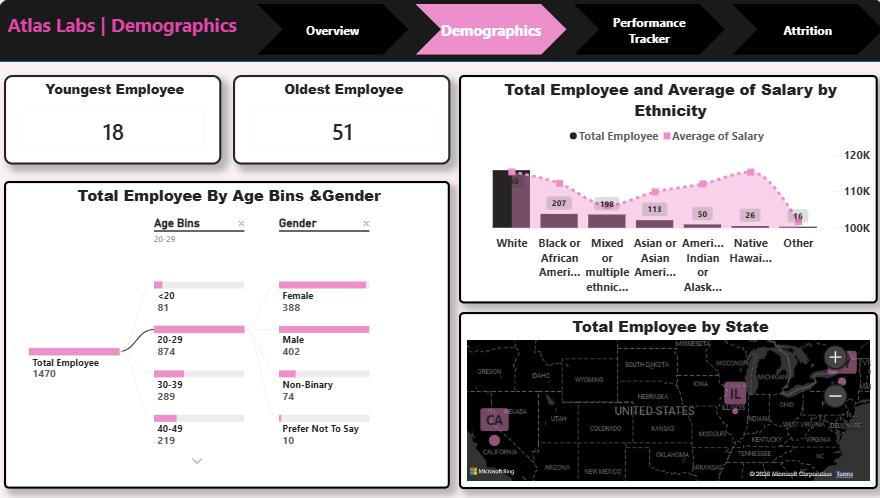

Layout of this report page (visuals, bound fields, positions):
{"tool":"powerbi","page":{"name":"Demographics","canvas":[1280,720],"ordinal":1},"visuals":[{"type":"shape","box":[0,0,1279.8,92.1],"z":0},{"type":"textbox","box":[10.1,8.7,368.1,73.9],"z":1000},{"type":"pageNavigator","box":[373.9,8.7,905.8,73.9],"z":2000},{"type":"cardVisual","title":"Youngest Employee","fields":{"Data":["Min(DimEmployee.Age)"]},"box":[10.1,111.6,313,129],"z":3000},{"type":"cardVisual","title":"Oldest Employee","fields":{"Data":["Max(DimEmployee.Age)"]},"box":[339.1,111.6,313,129],"z":4000},{"type":"decompositionTreeVisual","title":"Total Employee By Age Bins &Gender","fields":{"ExplainBy":["DimEmployee.Age Bins","DimEmployee.Gender"],"Analyze":["_Measure.Total Employee"]},"box":[10.1,263.8,642,443.5],"z":5000},{"type":"map","fields":{"Size":["_Measure.Total Employee"],"Category":["DimEmployee.State"]},"box":[665.2,452.2,602.9,255.1],"z":6000},{"type":"lineClusteredColumnComboChart","fields":{"Category":["DimEmployee.Ethnicity"],"Y2":["Avg(DimEmployee.Salary)"],"Y":["_Measure.Total Employee"]},"box":[665.2,111.6,602.9,329],"z":7000}]}

Visuals, with their boxes in screenshot pixels (x1, y1, x2, y2), scaled from the page's 1280x720 canvas onto the 880x498 screenshot:
shape: Rect(0, 0, 879, 64)
textbox: Rect(7, 6, 260, 57)
pageNavigator: Rect(257, 6, 879, 57)
"Youngest Employee" cardVisual: Rect(7, 77, 222, 166)
"Oldest Employee" cardVisual: Rect(233, 77, 448, 166)
"Total Employee By Age Bins &Gender" decompositionTreeVisual: Rect(7, 182, 448, 489)
map - _Measure.Total Employee x DimEmployee.State: Rect(457, 313, 872, 489)
lineClusteredColumnComboChart - DimEmployee.Ethnicity x Avg(DimEmployee.Salary): Rect(457, 77, 872, 305)
